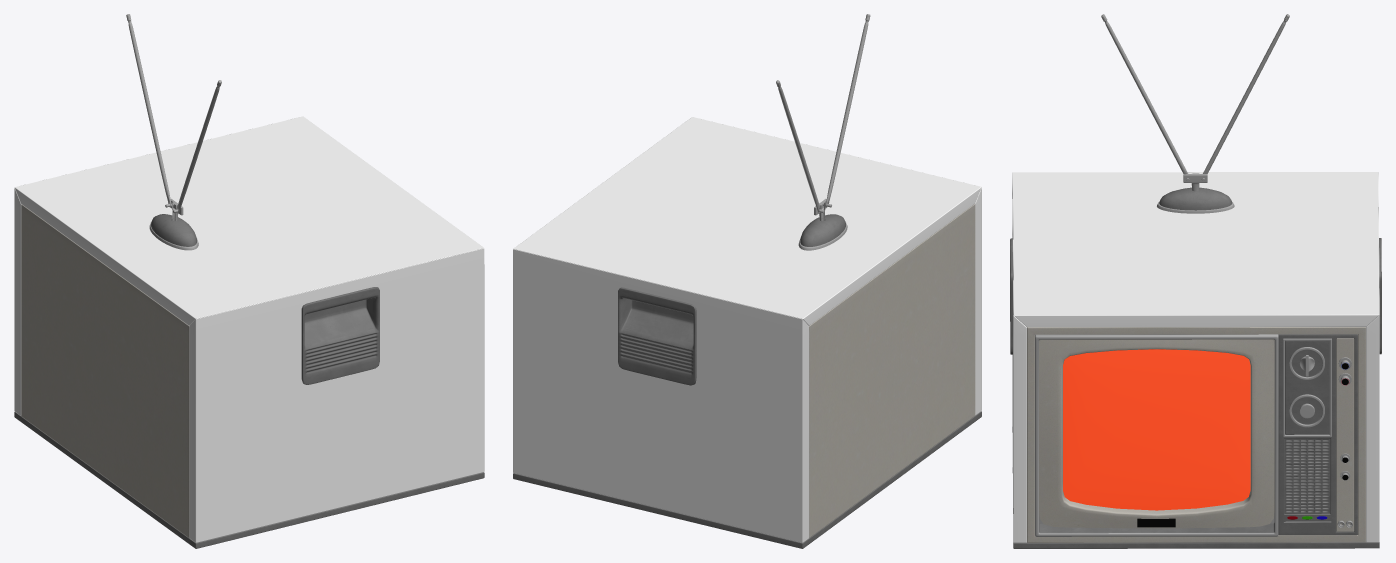
File: TV-clean.glb
3 views of the same model, side by side, from view 1: azimuth 30°, elevation 25°; view 2: azimuth 150°, elevation 25°; view 3: azimuth 270°, elevation 25° (orthographic).
Parts seen in each view (by area): view 1: Cube.025, Cube.013, Cube.018, Cube.011, Cube.015, Cylinder.005, Cylinder.015, Cylinder.007; view 2: Cube.025, Cube.013, Cube.018, Cube.011, Cube.015, Cylinder.005, Cylinder.007, Cylinder.015; view 3: Cube.013, Screen, Cube.021, Cube.018, Cube.025, Cube.024, Cube.022, Cube.016, Cube.020, Cube.015, Cube.017, Cylinder.005 (+6 smaller).
Part boxes in pixels (x1,y1,x2,y2): Cube.025: [14, 188, 484, 542]; Cube.013: [15, 116, 483, 325]; Cube.018: [21, 204, 189, 537]; Cube.011: [301, 287, 379, 384]; Cube.015: [14, 412, 484, 548]; Cylinder.005: [151, 214, 196, 246]; Cylinder.015: [126, 14, 171, 207]; Cylinder.007: [176, 80, 221, 212]; Cube.025: [513, 187, 981, 542]; Cube.013: [513, 117, 981, 325]; Cube.018: [809, 204, 975, 537]; Cube.011: [618, 287, 696, 385]; Cube.015: [513, 411, 981, 548]; Cylinder.005: [800, 214, 845, 246]; Cylinder.007: [825, 14, 870, 207]; Cylinder.015: [776, 80, 820, 212]; Cube.013: [1012, 172, 1379, 327]; Screen: [1063, 349, 1250, 510]; Cube.021: [1039, 339, 1274, 528]; Cube.018: [1027, 327, 1365, 542]; Cube.025: [1012, 172, 1379, 542]; Cube.024: [1278, 334, 1357, 535]; Cube.022: [1035, 334, 1278, 536]; Cube.016: [1284, 438, 1330, 513]; Cube.020: [1336, 338, 1354, 531]; Cube.015: [1012, 427, 1379, 548]; Cube.017: [1285, 340, 1329, 434]; Cylinder.005: [1159, 187, 1232, 210].
Bounding box in the file's own units: 0.8853 × 1.22 × 0.9471.
Materials: 13 (4 with a texture image).
